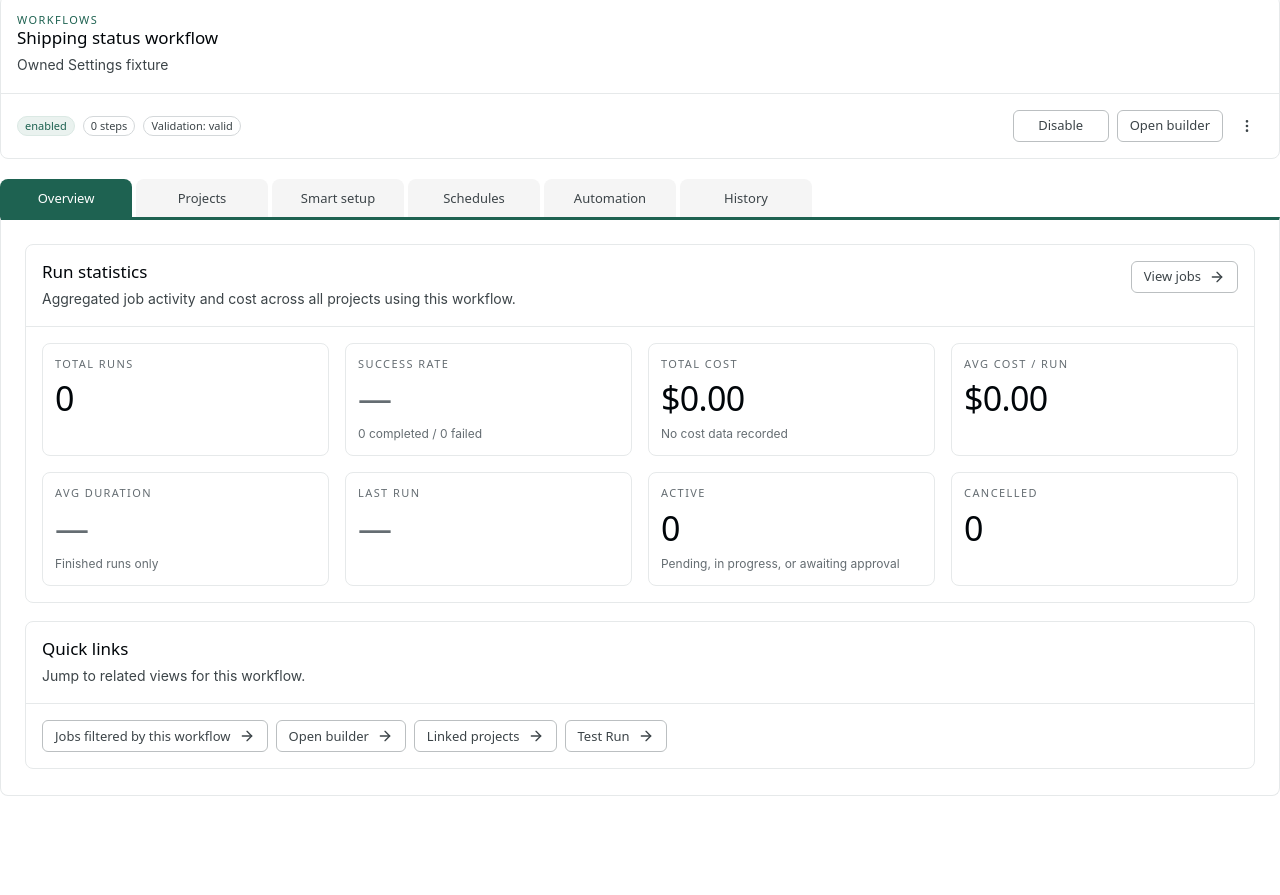
opens real Settings from Overview without initializing the Builder or losing the explicit project
Expected: the heading "Shipping status workflow" is shown, [17,26,218,49]
Click the button named "Workflow actions" at (1247, 126), box [1231,110,1263,142]
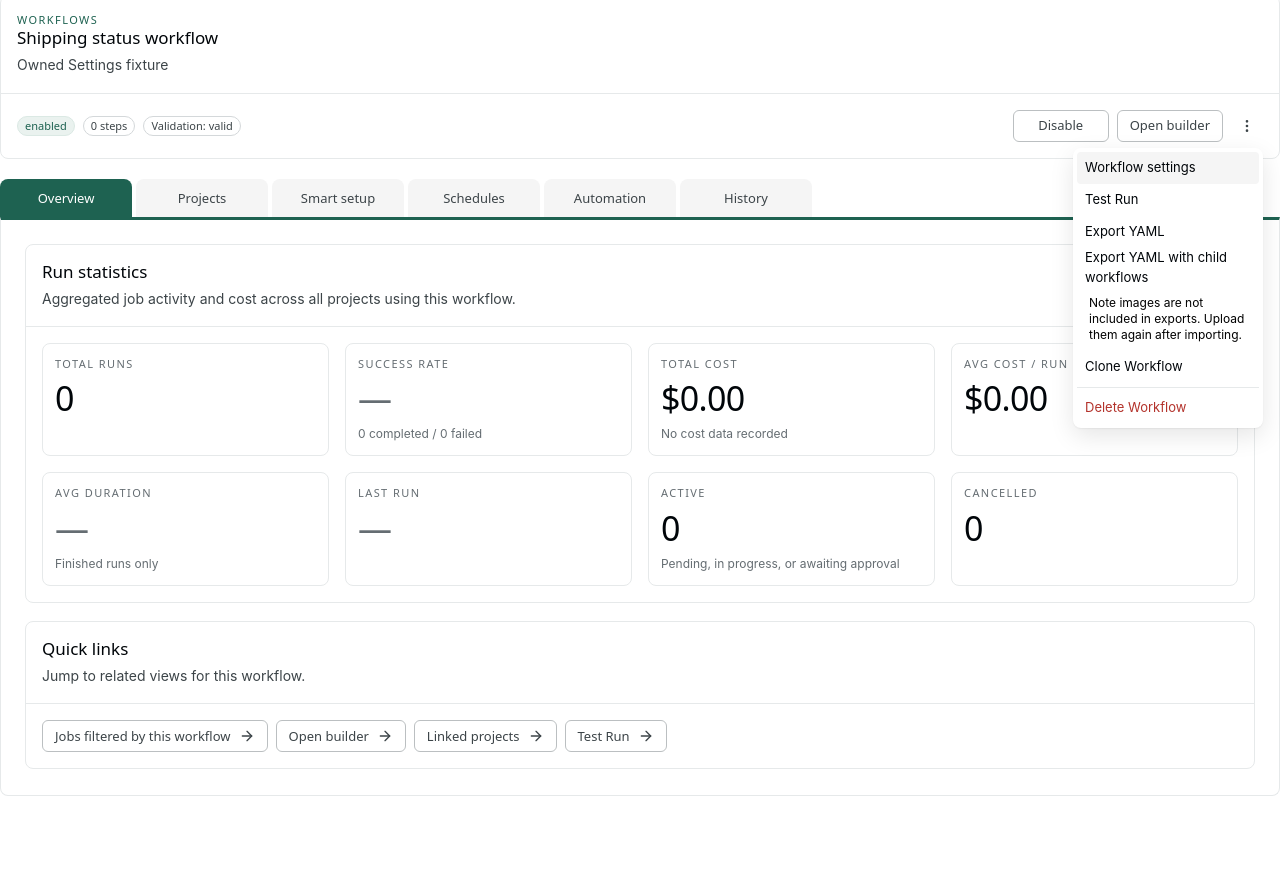
Click the menu item "Workflow settings" at (1168, 168), box [1077,152,1259,184]
(page scrolled)
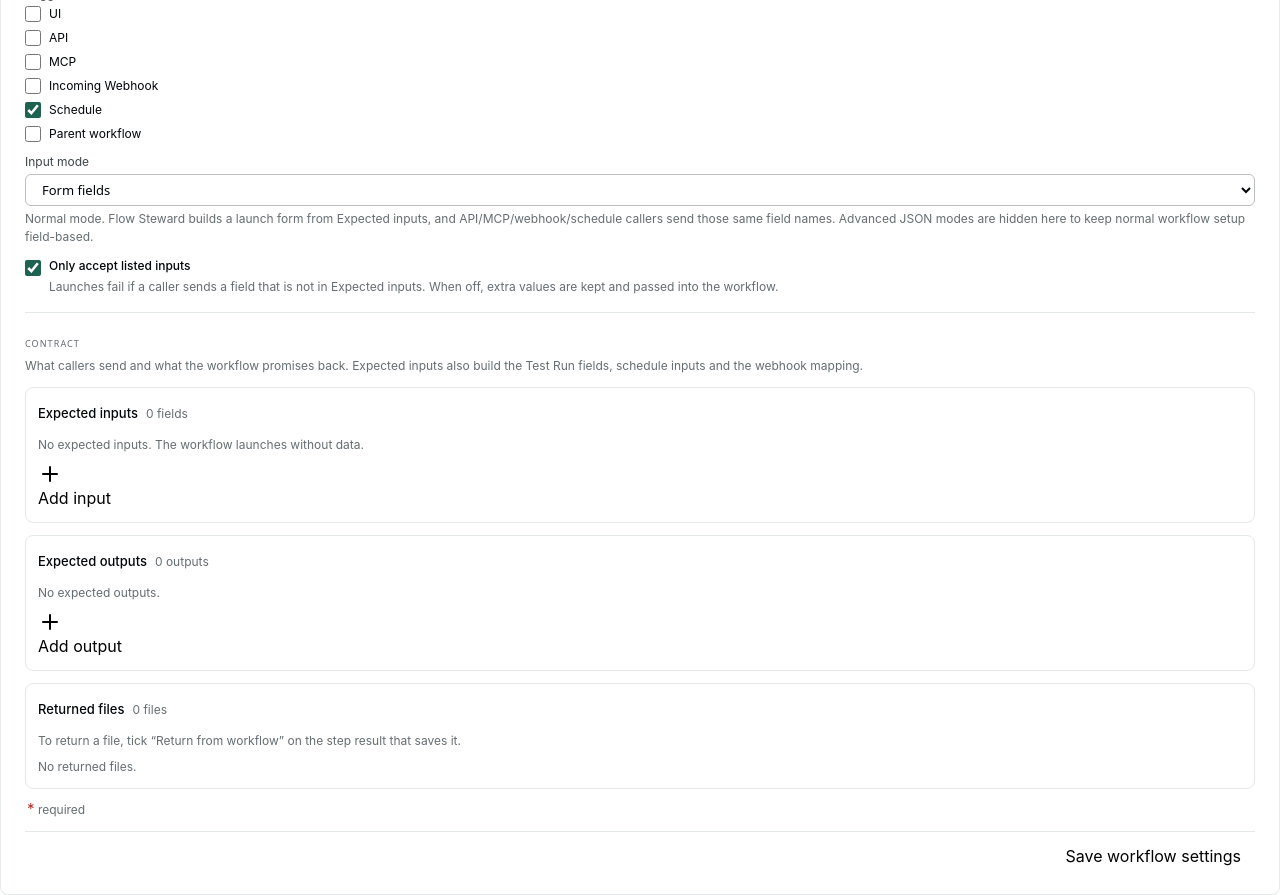
Now the button "Save workflow settings" is disabled, box [1052,844,1255,868]
